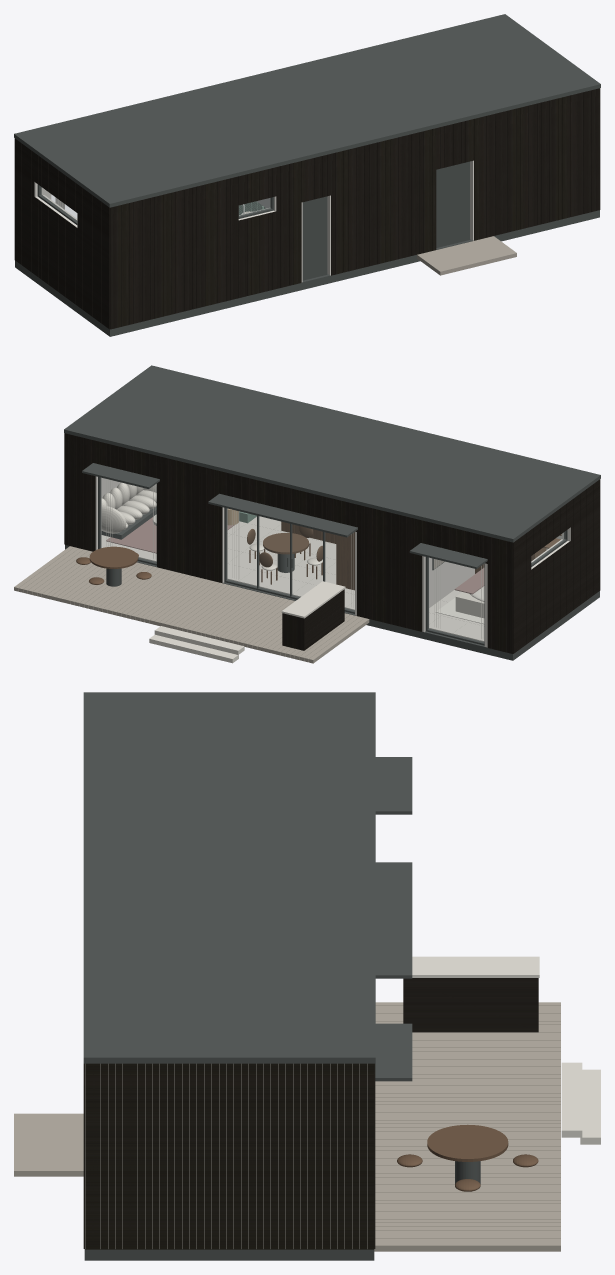
Rendered from solum-revised.glb.
3 views of the same model, one above another, from view 1: azimuth 30°, elevation 25°; view 2: azimuth 150°, elevation 25°; view 3: azimuth 270°, elevation 25° (orthographic). The views are drawn at different scales.
Visible parts, largest first — view 1: wall-rear|Charred timber, roof|Charcoal metal, wall-right|Charred timber, door|Charcoal metal, base|Charcoal metal, deck|Deck timber, wall-rear|Warm plaster, window|Window glass, window|Charcoal metal; view 2: roof|Charcoal metal, wall-front|Charred timber, deck|Deck timber, wall-right|Charred timber, window|Window glass, door|Window glass, floor|Limestone, awning|Charcoal metal, furniture|Walnut veneer, furniture|Ivory boucle, base|Charcoal metal, deck-furniture|Charred timber (+11 smaller); view 3: roof|Charcoal metal, wall-left|Charred timber, deck|Deck timber, awning|Charcoal metal, deck-furniture|Charred timber, wall-left|Warm plaster, base|Charcoal metal, deck-furniture|Walnut veneer, deck|Limestone, deck-furniture|Limestone.
Part boxes in pixels (x1,y1,x2,y2): wall-rear|Charred timber: (110, 88, 600, 329); roof|Charcoal metal: (14, 14, 600, 207); wall-right|Charred timber: (14, 138, 109, 329); door|Charcoal metal: (302, 161, 469, 280); base|Charcoal metal: (15, 210, 599, 336); deck|Deck timber: (417, 236, 516, 275); wall-rear|Warm plaster: (238, 160, 473, 282); window|Window glass: (40, 187, 270, 220); window|Charcoal metal: (37, 184, 273, 224); roof|Charcoal metal: (64, 365, 600, 542); wall-front|Charred timber: (64, 433, 512, 653); deck|Deck timber: (14, 546, 369, 663); wall-right|Charred timber: (513, 479, 600, 653); window|Window glass: (101, 478, 564, 642); door|Window glass: (227, 509, 354, 610); floor|Limestone: (101, 516, 484, 641); awning|Charcoal metal: (82, 463, 487, 568); furniture|Walnut veneer: (247, 521, 561, 590); furniture|Ivory boucle: (101, 482, 484, 617); base|Charcoal metal: (65, 545, 599, 660); deck-furniture|Charred timber: (282, 589, 344, 650); roof|Charcoal metal: (83, 692, 375, 1063); wall-left|Charred timber: (84, 1063, 374, 1249); deck|Deck timber: (14, 1002, 560, 1251); awning|Charcoal metal: (375, 757, 412, 1081); deck-furniture|Charred timber: (403, 978, 538, 1032); wall-left|Warm plaster: (85, 1064, 367, 1248); base|Charcoal metal: (84, 1249, 374, 1260); deck-furniture|Walnut veneer: (397, 1124, 538, 1191); deck|Limestone: (561, 1062, 600, 1144); deck-furniture|Limestone: (412, 956, 539, 977).
Bounding box in the file's own units: 13.44 × 3.62 × 9.12.
Materials: 21 (2 with a texture image).
